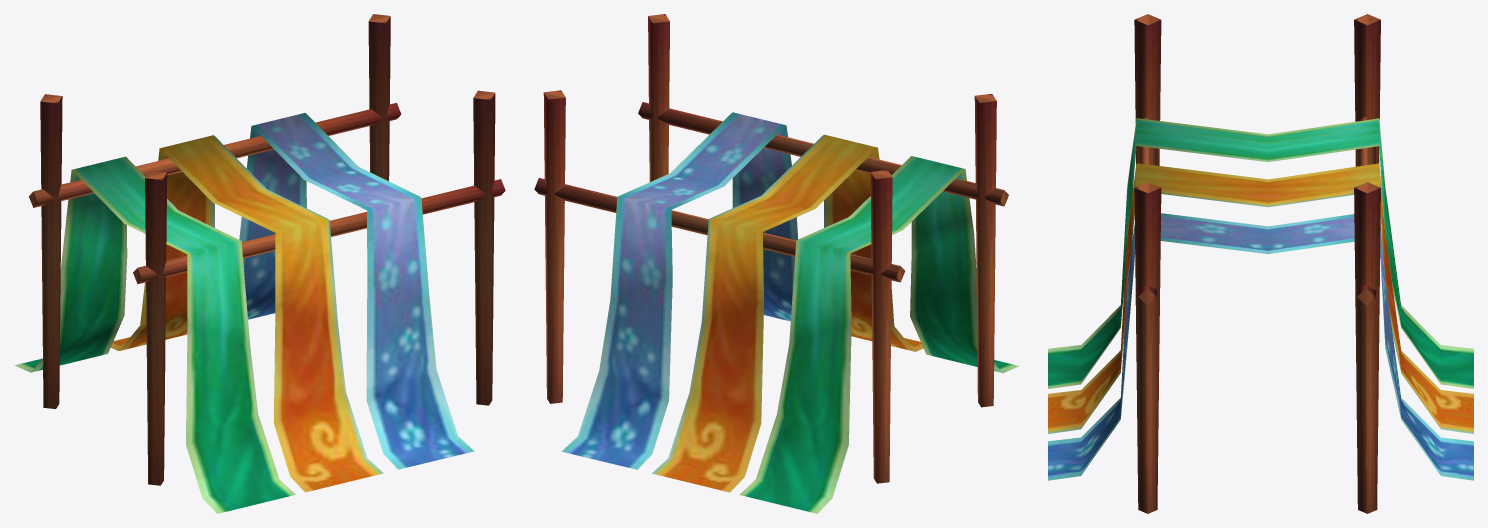
Rendered from szc_object_19abujia.FBX.
The picture shows the model from 3 angles, left to right: view 1: azimuth 30°, elevation 25°; view 2: azimuth 150°, elevation 25°; view 3: azimuth 270°, elevation 25°; orthographic projection. The views are drawn at different scales.
Visible parts, largest first — view 1: szc_object_19abujia; view 2: szc_object_19abujia; view 3: szc_object_19abujia.
Boxes of the visible parts, box(x1,y1,x2,y2) form: szc_object_19abujia: box(14, 14, 505, 513); szc_object_19abujia: box(534, 14, 1019, 513); szc_object_19abujia: box(1048, 14, 1473, 513).
Size of the model in its own units: 273 by 221 by 264.
